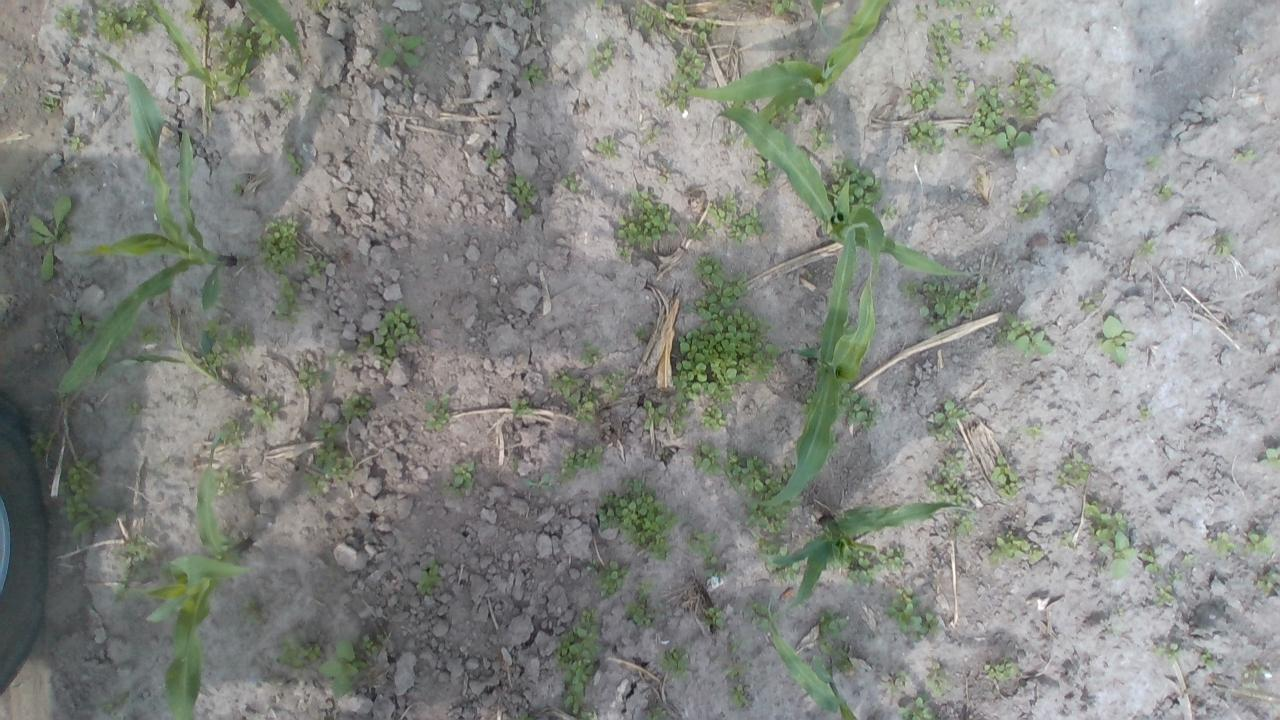Maize: (55, 52, 234, 400), (726, 209, 884, 515), (702, 102, 966, 280), (126, 429, 254, 720), (677, 0, 887, 123), (766, 490, 972, 606), (751, 600, 860, 720), (222, 0, 308, 69)
Weeds: (672, 308, 782, 401), (209, 6, 282, 100), (598, 479, 682, 560), (57, 454, 116, 538), (556, 611, 600, 714), (1081, 500, 1135, 579), (26, 194, 72, 282), (616, 190, 678, 252), (655, 44, 706, 112), (724, 448, 786, 502), (823, 155, 882, 210), (374, 300, 419, 371), (885, 586, 940, 642), (319, 637, 366, 700), (551, 369, 599, 424), (994, 312, 1054, 356), (923, 450, 970, 506), (256, 216, 300, 272), (376, 24, 426, 71), (965, 84, 1004, 144), (918, 280, 960, 335), (1004, 58, 1040, 119), (836, 382, 880, 430), (756, 536, 802, 581), (744, 499, 802, 534), (696, 271, 750, 307), (113, 532, 152, 580), (94, 0, 133, 48), (277, 628, 322, 668), (925, 400, 967, 442), (988, 530, 1043, 562), (1099, 316, 1134, 364), (633, 3, 676, 42), (559, 446, 603, 482), (587, 558, 628, 596), (272, 274, 304, 322), (988, 452, 1020, 500), (314, 444, 356, 480), (725, 206, 764, 244), (926, 19, 953, 72), (1012, 186, 1049, 223), (819, 638, 856, 675), (908, 118, 944, 156), (62, 309, 102, 343), (844, 551, 881, 587), (659, 645, 694, 682), (1056, 450, 1090, 488), (422, 394, 454, 434), (691, 253, 726, 289), (442, 462, 476, 499), (904, 77, 943, 109), (584, 38, 616, 76), (996, 124, 1033, 156), (959, 282, 993, 315), (692, 441, 722, 478), (249, 393, 279, 430), (54, 3, 85, 38), (900, 693, 940, 720), (984, 654, 1022, 682), (182, 0, 210, 38), (222, 326, 256, 357), (748, 151, 776, 188), (708, 192, 736, 228), (507, 172, 538, 204), (816, 608, 849, 638), (134, 0, 160, 37), (217, 417, 248, 448), (749, 601, 781, 630), (416, 556, 440, 594), (1204, 530, 1238, 556), (30, 426, 59, 456), (926, 662, 951, 696), (698, 404, 726, 434), (624, 602, 659, 626), (214, 467, 242, 496), (340, 394, 372, 419), (600, 369, 626, 399), (1244, 530, 1274, 556), (641, 399, 665, 431), (1138, 546, 1165, 574), (298, 364, 328, 389), (1151, 642, 1185, 664), (1033, 66, 1057, 97), (689, 530, 720, 554), (1240, 664, 1267, 690), (693, 14, 717, 43), (702, 556, 731, 580), (522, 60, 548, 86), (580, 340, 604, 368), (358, 632, 387, 655), (670, 401, 691, 432), (774, 102, 801, 126), (316, 420, 346, 441), (1212, 232, 1236, 258), (205, 344, 229, 370), (523, 474, 555, 493), (509, 395, 534, 419), (100, 693, 130, 713), (1255, 570, 1280, 594), (688, 221, 716, 242), (136, 322, 164, 343), (240, 598, 264, 622), (202, 317, 226, 341), (702, 605, 728, 627), (302, 472, 326, 495), (952, 71, 971, 100), (995, 15, 1017, 40), (971, 30, 996, 52), (951, 511, 976, 533), (880, 548, 904, 570), (884, 670, 906, 694), (595, 138, 620, 158), (1078, 292, 1103, 312), (812, 128, 834, 150), (304, 257, 328, 277), (666, 0, 687, 22), (1258, 446, 1280, 467), (972, 0, 995, 20), (1060, 228, 1082, 248), (1153, 583, 1175, 603), (900, 279, 920, 301), (287, 152, 305, 176), (328, 348, 352, 366), (561, 172, 582, 192), (1138, 238, 1159, 258), (124, 400, 144, 421), (635, 578, 654, 600), (731, 684, 750, 706), (798, 391, 815, 415), (949, 17, 963, 46), (39, 94, 59, 114), (768, 0, 796, 14), (158, 561, 175, 584), (826, 429, 842, 453), (484, 146, 504, 165), (58, 165, 79, 183), (641, 128, 661, 146), (90, 80, 107, 101), (725, 663, 747, 679), (1156, 182, 1174, 201), (644, 706, 668, 720), (1234, 150, 1258, 164), (309, 0, 331, 15), (281, 90, 297, 110), (1202, 650, 1218, 670), (911, 5, 930, 21), (68, 135, 85, 152), (1168, 568, 1186, 584), (1058, 532, 1076, 548), (357, 335, 373, 352), (112, 584, 128, 601), (1026, 423, 1044, 438), (781, 461, 796, 478), (883, 205, 899, 220), (720, 133, 736, 147), (1137, 404, 1153, 418), (1146, 154, 1160, 169), (729, 638, 742, 654), (774, 56, 808, 62), (936, 0, 956, 10), (516, 711, 538, 720), (314, 90, 328, 104), (232, 182, 246, 196), (1180, 551, 1194, 565), (636, 326, 649, 340), (616, 246, 632, 257), (578, 712, 599, 720), (520, 0, 536, 10), (954, 128, 966, 140), (594, 0, 610, 9), (956, 0, 970, 10), (521, 208, 533, 218), (816, 326, 824, 340), (402, 79, 412, 90), (282, 141, 294, 149), (1118, 606, 1124, 617)
